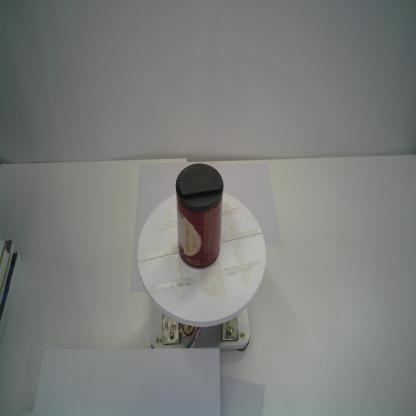Canned Food: (174, 162, 224, 272)
